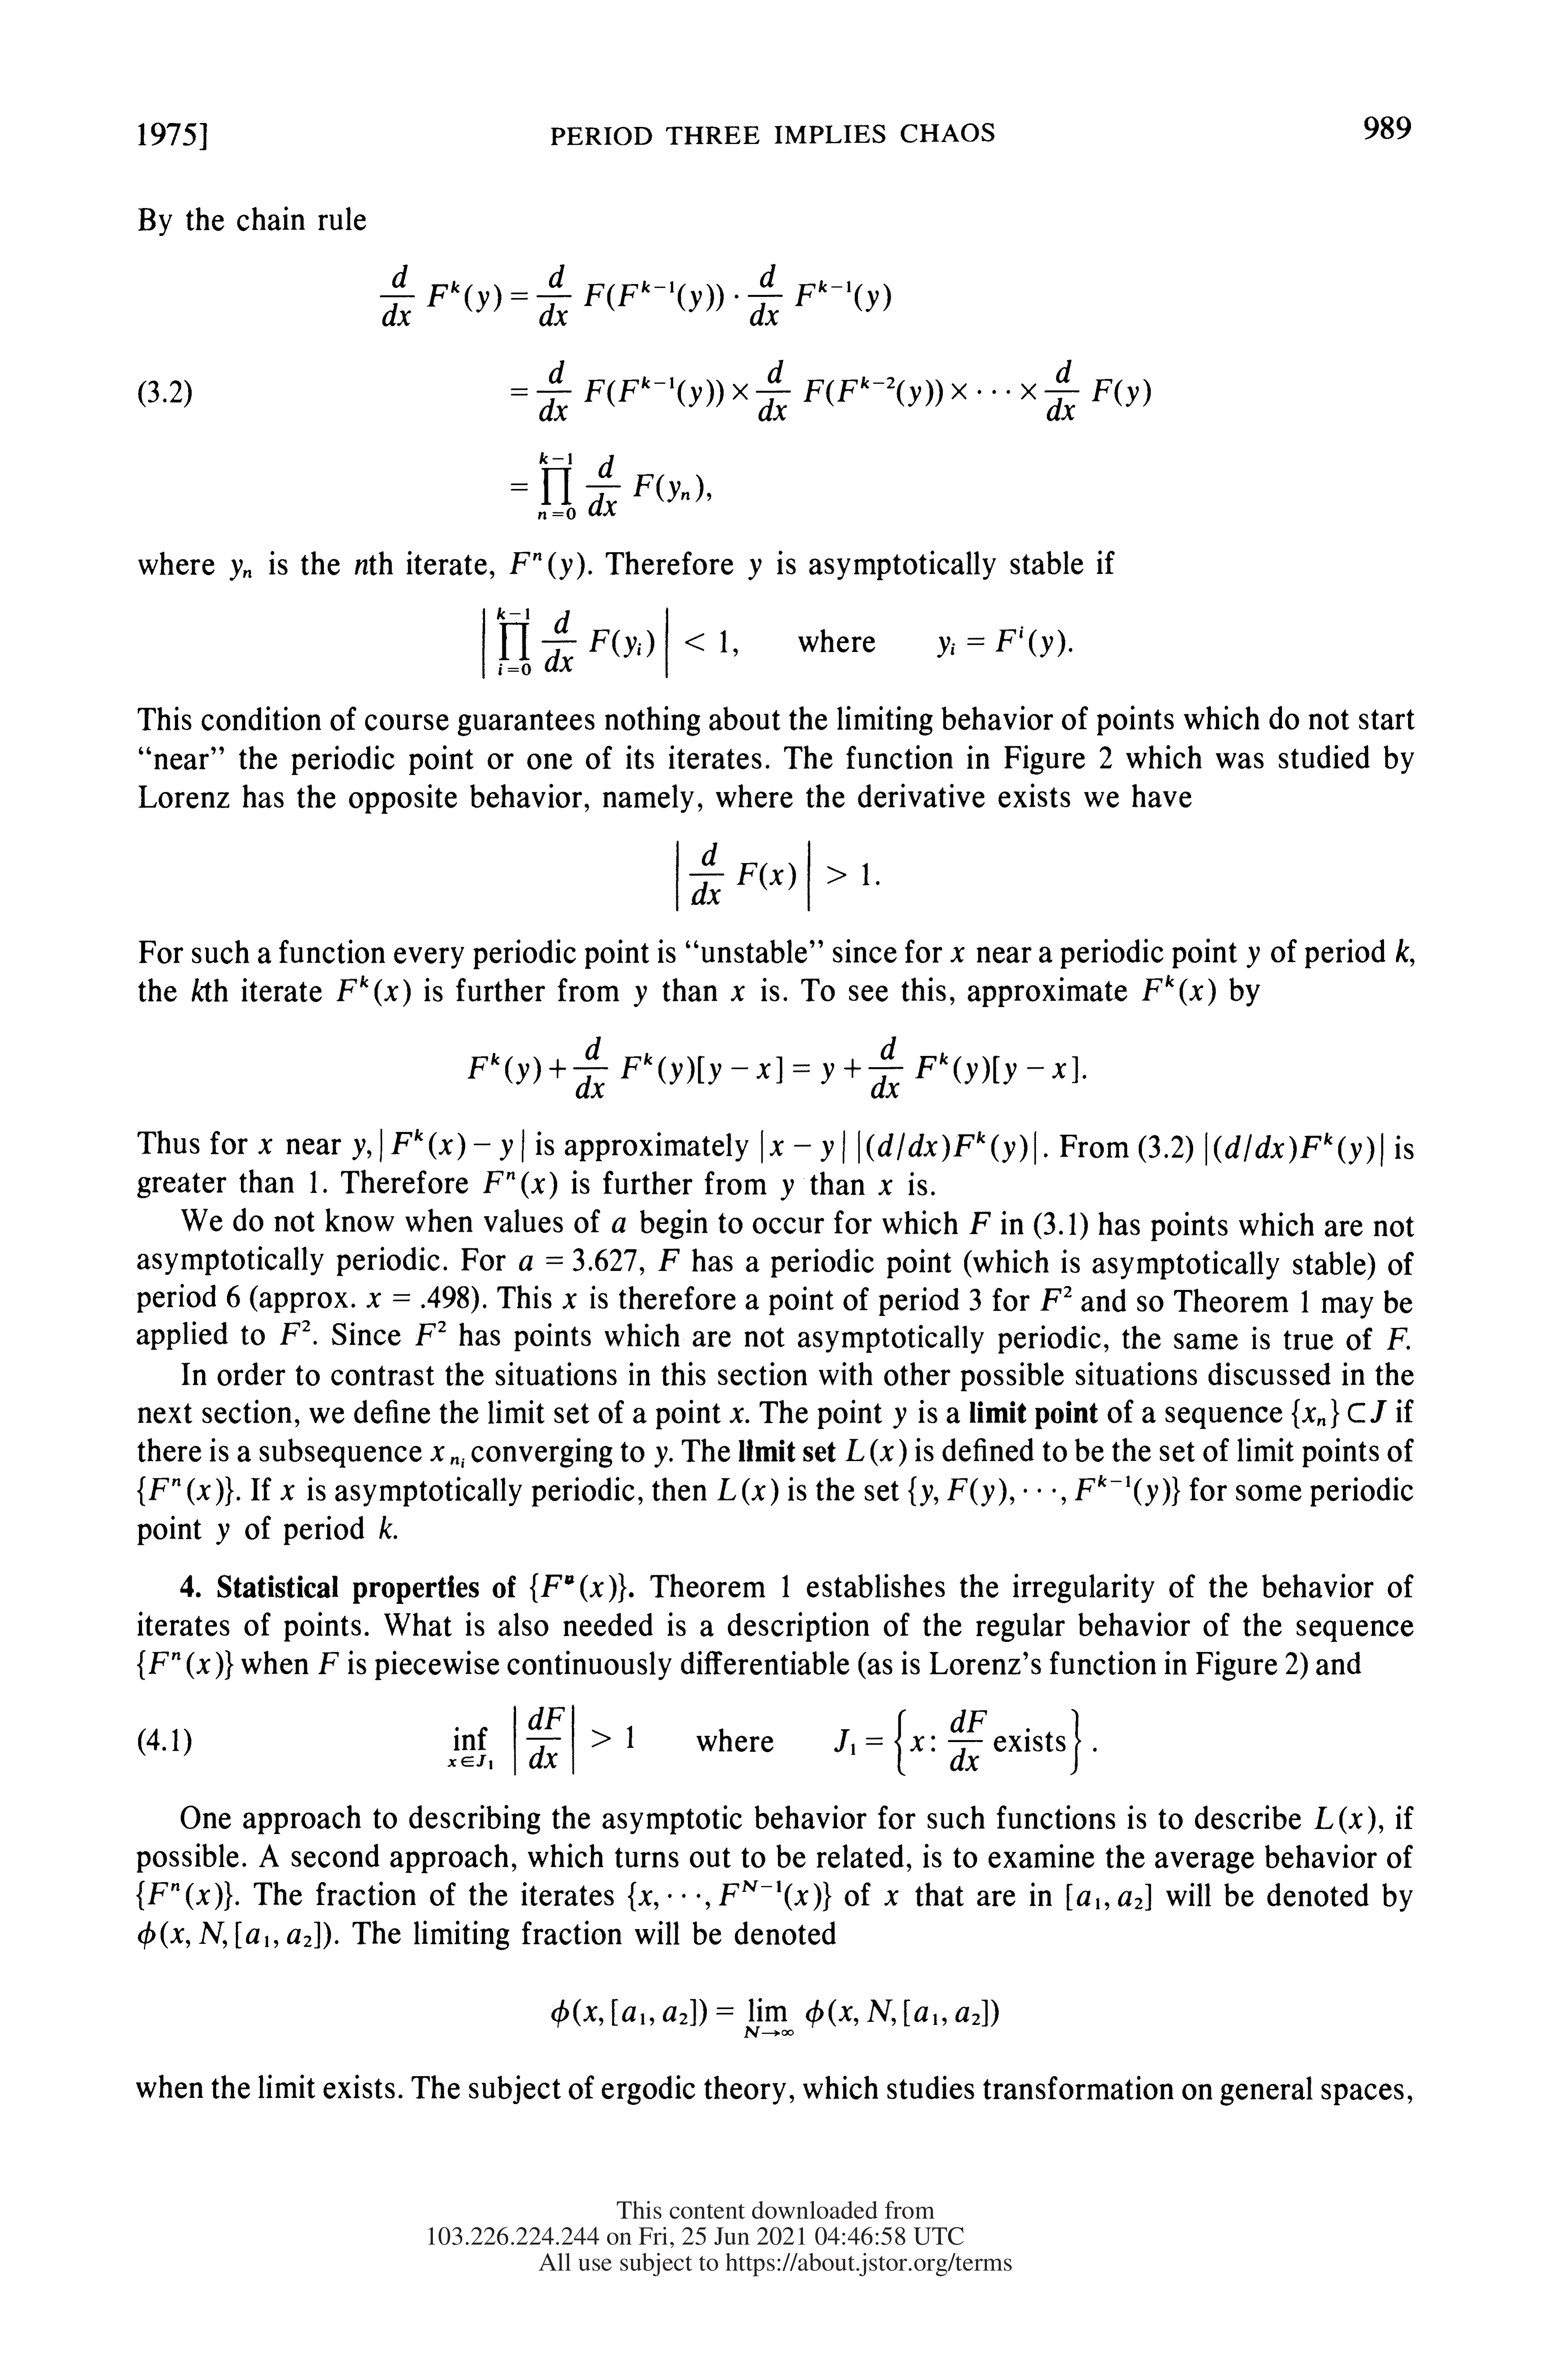maths: (512, 359, 1150, 422), (468, 1036, 1086, 1098), (380, 264, 891, 326), (551, 1998, 999, 2037), (498, 607, 727, 678), (676, 840, 879, 911), (510, 453, 702, 519), (834, 1709, 987, 1776), (761, 1131, 1035, 1164), (1205, 1133, 1382, 1166), (352, 1129, 524, 1162), (513, 1705, 574, 1775), (936, 626, 1065, 657), (518, 1249, 643, 1275), (1075, 1474, 1171, 1506), (720, 1880, 820, 1910), (1292, 1398, 1386, 1429), (137, 1476, 232, 1506), (531, 1573, 626, 1603), (137, 1650, 232, 1679), (137, 1880, 232, 1910), (336, 975, 411, 1006), (366, 1285, 468, 1308), (1143, 975, 1216, 1006), (1066, 1884, 1151, 1910), (510, 552, 584, 579), (482, 1171, 557, 1199), (447, 1728, 492, 1769), (1070, 1709, 1096, 1775), (718, 1478, 779, 1506), (1314, 1806, 1375, 1834), (947, 1478, 1006, 1506), (844, 1440, 907, 1466), (137, 1922, 189, 1950), (236, 1922, 277, 1948), (909, 1476, 938, 1506), (628, 1882, 657, 1912), (1040, 1285, 1072, 1310), (430, 1447, 465, 1468), (199, 1922, 227, 1948), (281, 1320, 310, 1344), (416, 1322, 446, 1344), (1023, 1488, 1065, 1504), (668, 1894, 709, 1910), (1396, 938, 1415, 966), (229, 559, 251, 581), (1387, 1327, 1410, 1350), (659, 1249, 680, 1272), (317, 1651, 338, 1674), (969, 1213, 990, 1233), (654, 1447, 673, 1468), (380, 1516, 397, 1539), (288, 1929, 310, 1946), (591, 1729, 610, 1747), (893, 1407, 907, 1429), (780, 1180, 794, 1200), (749, 559, 761, 579), (1247, 947, 1259, 968), (635, 985, 647, 1006), (217, 1523, 229, 1544), (730, 985, 744, 1001), (258, 1138, 272, 1154), (612, 1218, 626, 1233), (562, 1292, 576, 1308), (730, 1407, 744, 1422), (281, 1485, 295, 1501), (950, 947, 964, 961), (884, 1891, 898, 1905), (879, 1180, 891, 1195), (626, 1726, 633, 1747)
